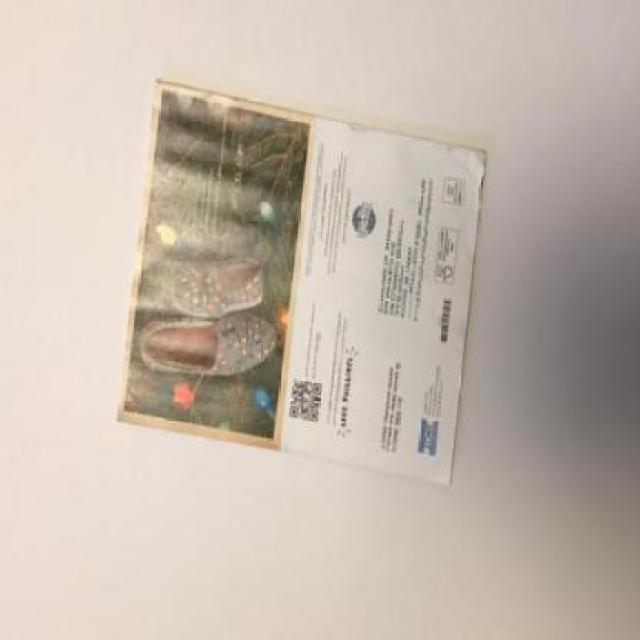PAPER: (115, 79, 488, 488)
